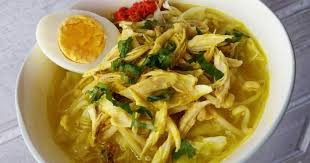soto: (10, 1, 276, 163)
